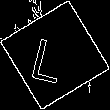L_N: (34, 27, 76, 83)
